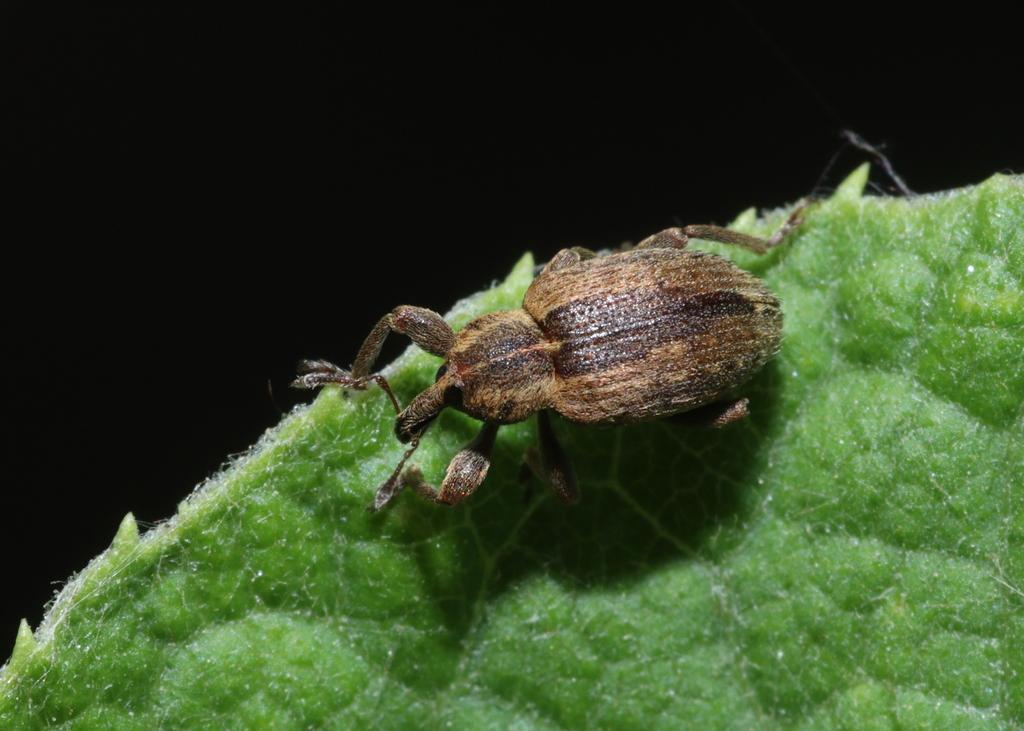weevils: (245, 154, 868, 577)
